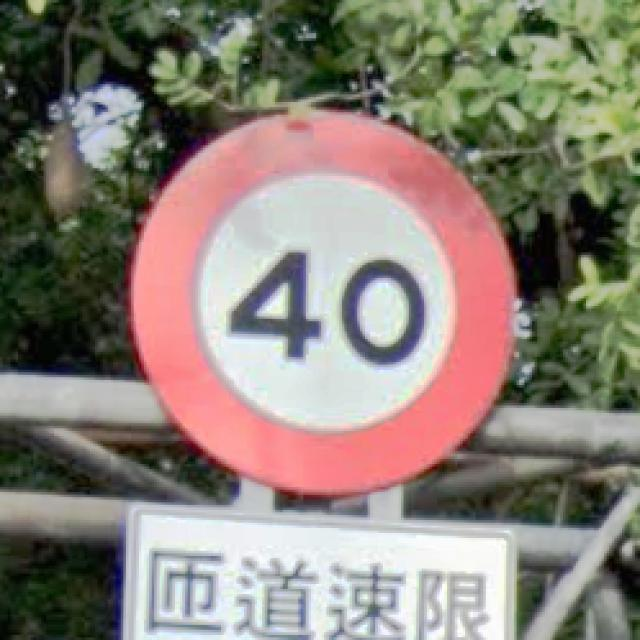max40: (123, 105, 520, 497)
